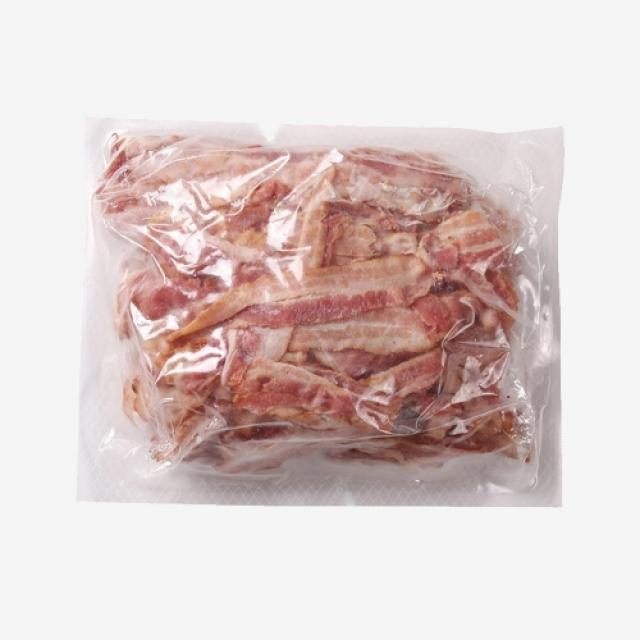bacon: (90, 116, 562, 499)
